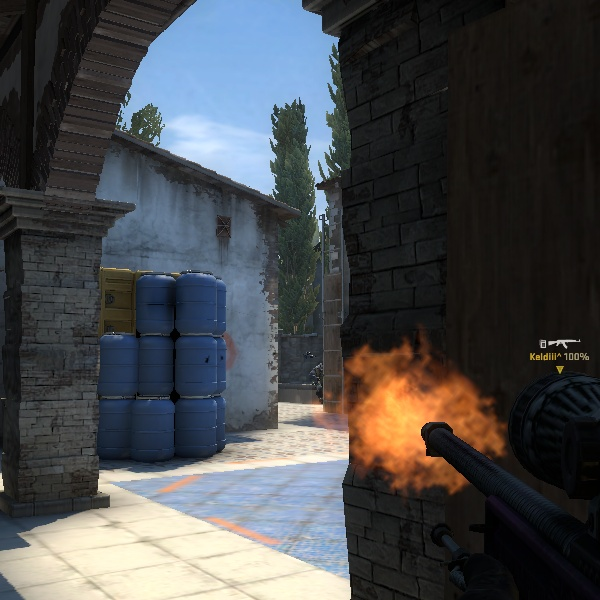t_body: (300, 350, 323, 400)
